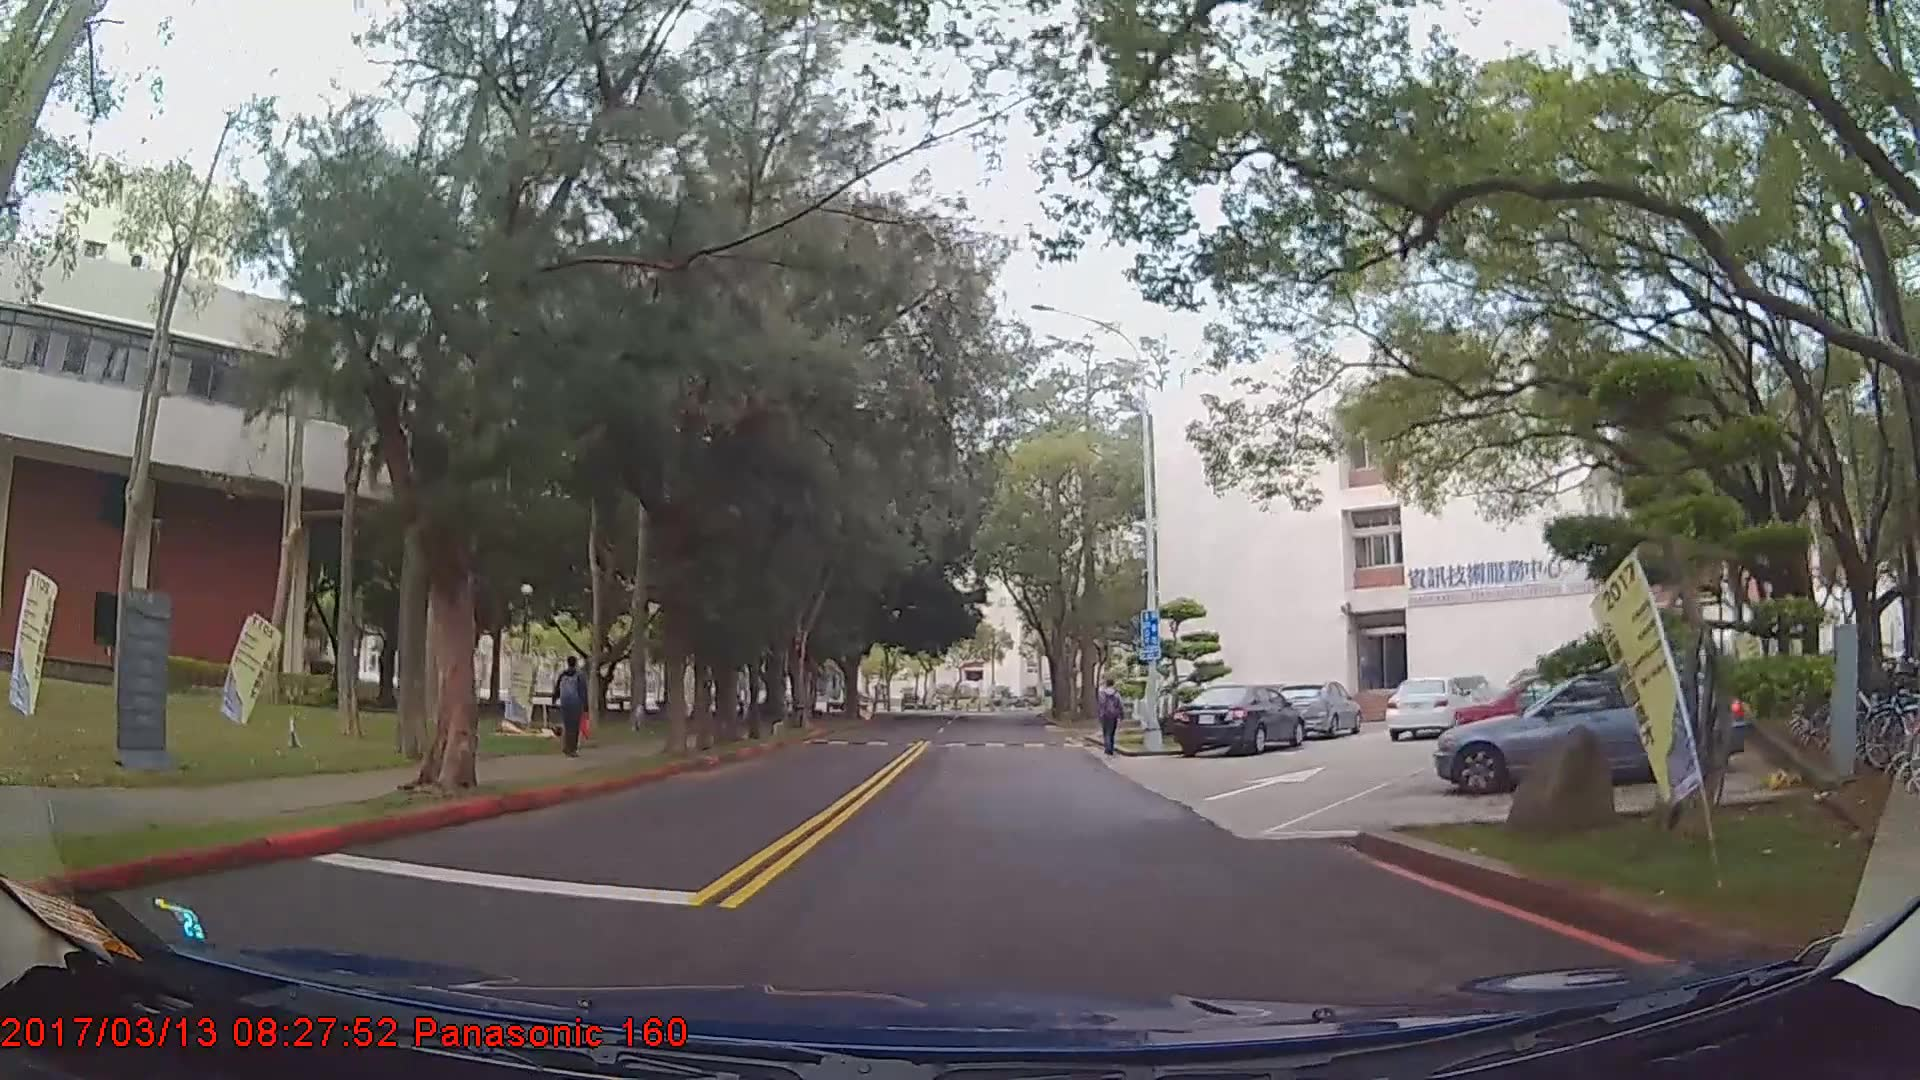pedestrian: (552, 656, 588, 758), (1096, 683, 1125, 760)
vehicle: (1435, 666, 1737, 797), (1172, 681, 1308, 756), (1380, 674, 1466, 740), (1278, 679, 1363, 739)
